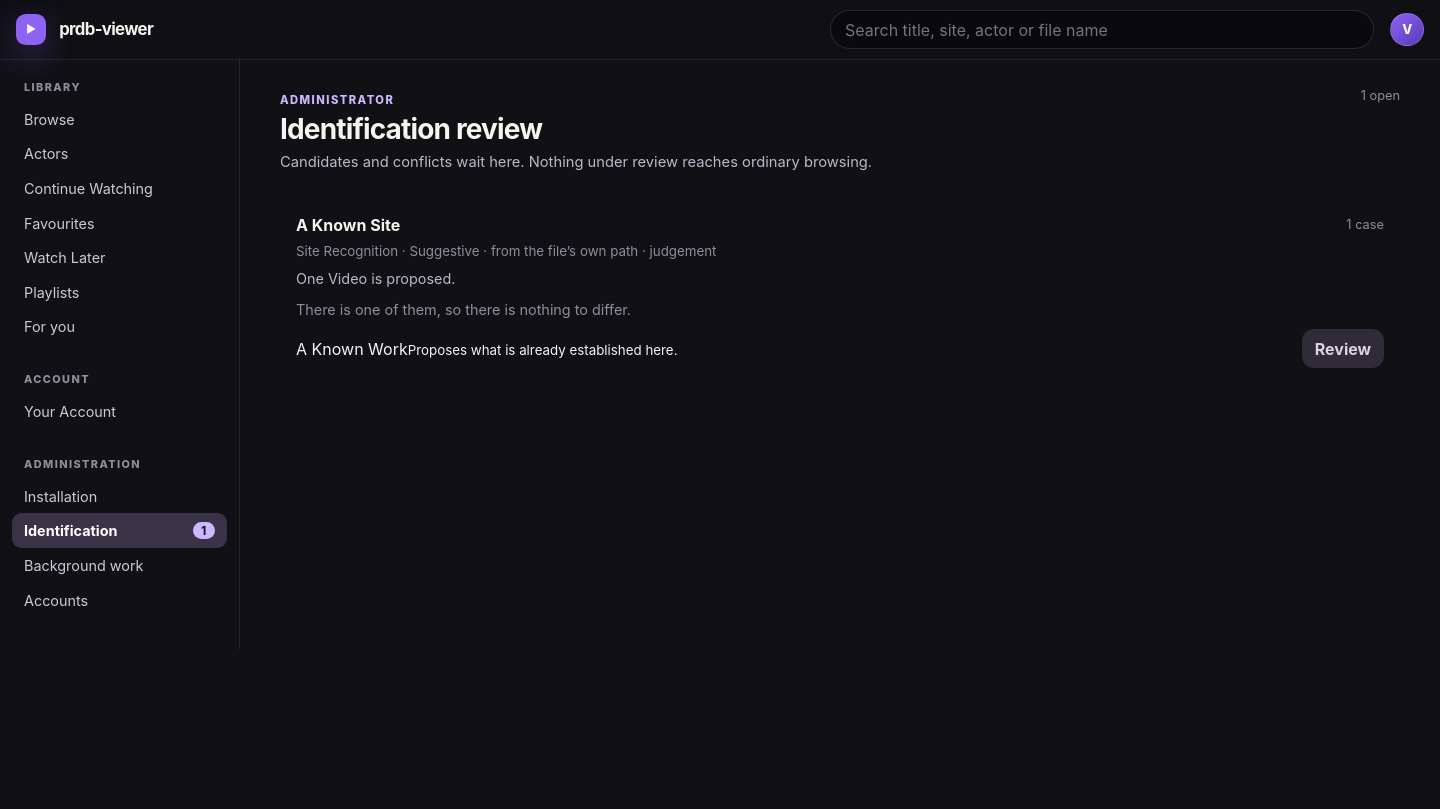
Test: App › refuses the site decisions a case does not offer, and says why
Expected: the text "Proposes what is already established here." is shown, [408, 342, 678, 358]
Click the button "Review" at {"x": 1343, "y": 349}, box [1302, 329, 1384, 368]
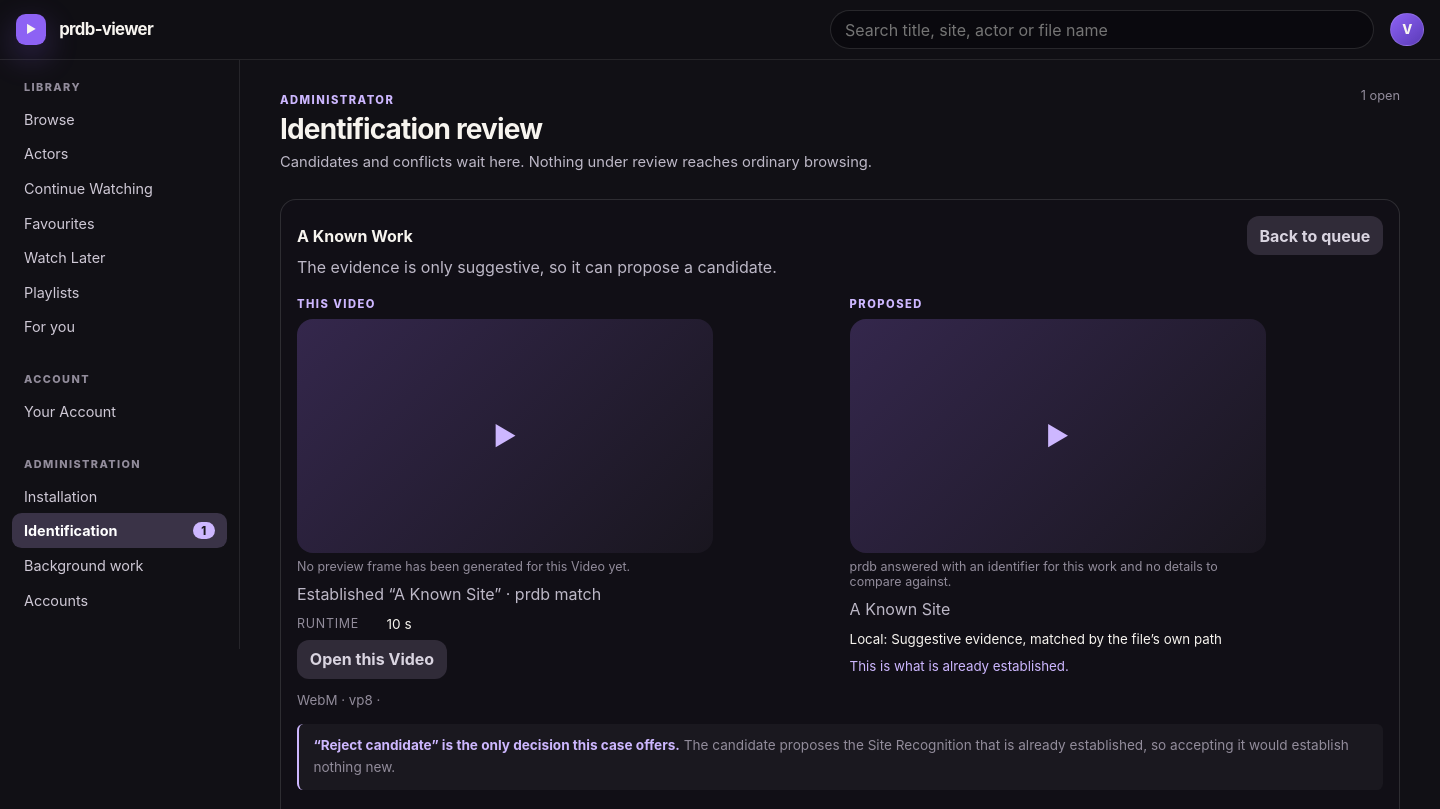
Expected: the text "“Reject candidate” is the only decision this case offers." is shown, [313, 737, 680, 753]
Expected: the text "proposes the Site Recognition that is already established" is shown, [313, 737, 1349, 775]
Expected: the text "No preview frame has been generated for this Video yet." is shown, [297, 559, 630, 574]
